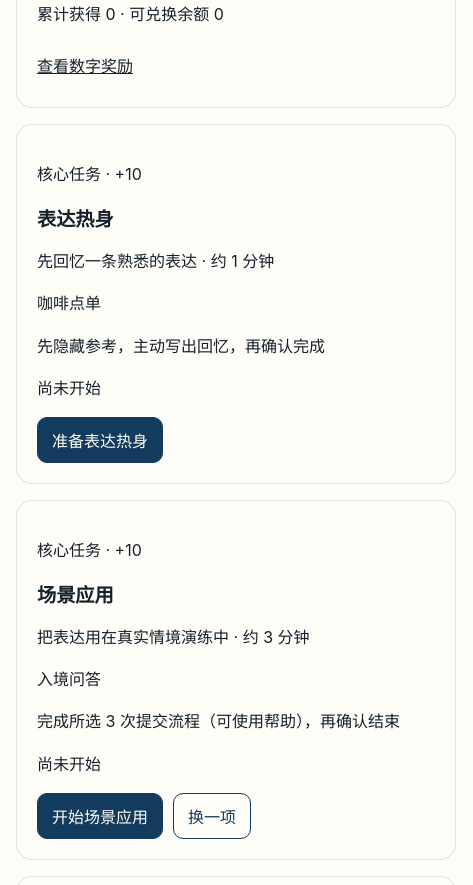
Test case: keeps unavailable public material distinct from starting/completing and exposes an explicit retry
This screenshot has width=473, height=885.
(page scrolled)
Click the button "准备表达热身" at (100, 440), box x1=37 y1=417 x2=163 y2=463
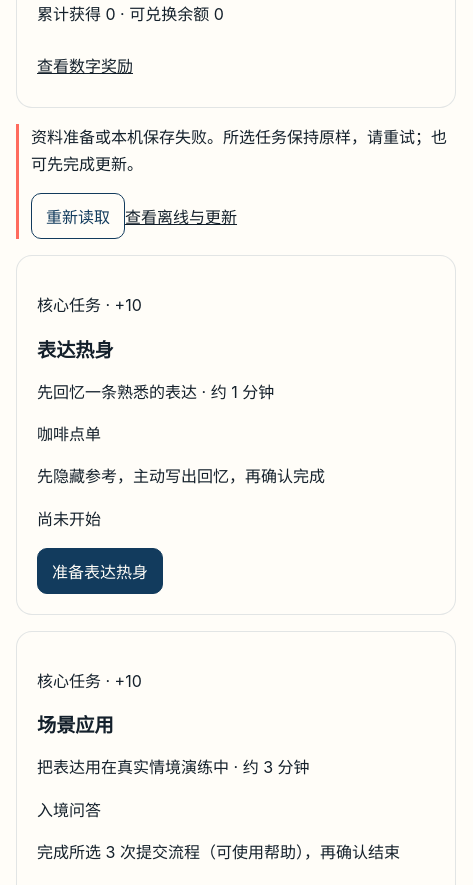
Expected: the message "资料准备或本机保存失败。所选任务保持原样，请重试；也可先完成更新。 重新读取 查看离线与更新" is shown, x1=16 y1=124 x2=456 y2=239
Expected: the text "资料准备或本机保存失败。所选任务保持原样，请重试；也可先完成更新。" is shown, x1=31 y1=124 x2=456 y2=177
